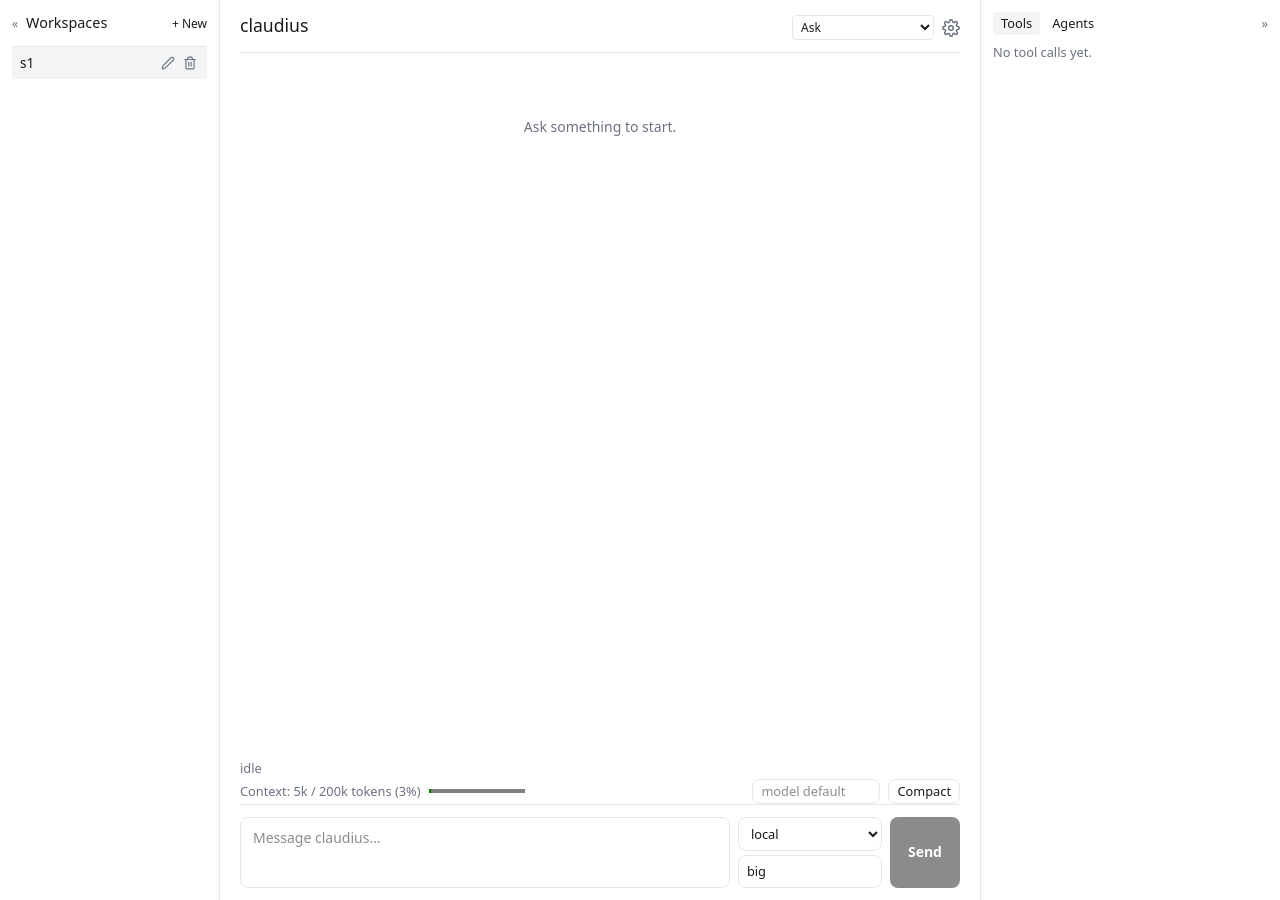
App › answering no sends nothing and keeps the text
The image size is (1280, 900).
Replace the text in the field named "Model" with "small". click: {"x": 810, "y": 871}
box: x1=738 y1=855 x2=882 y2=888
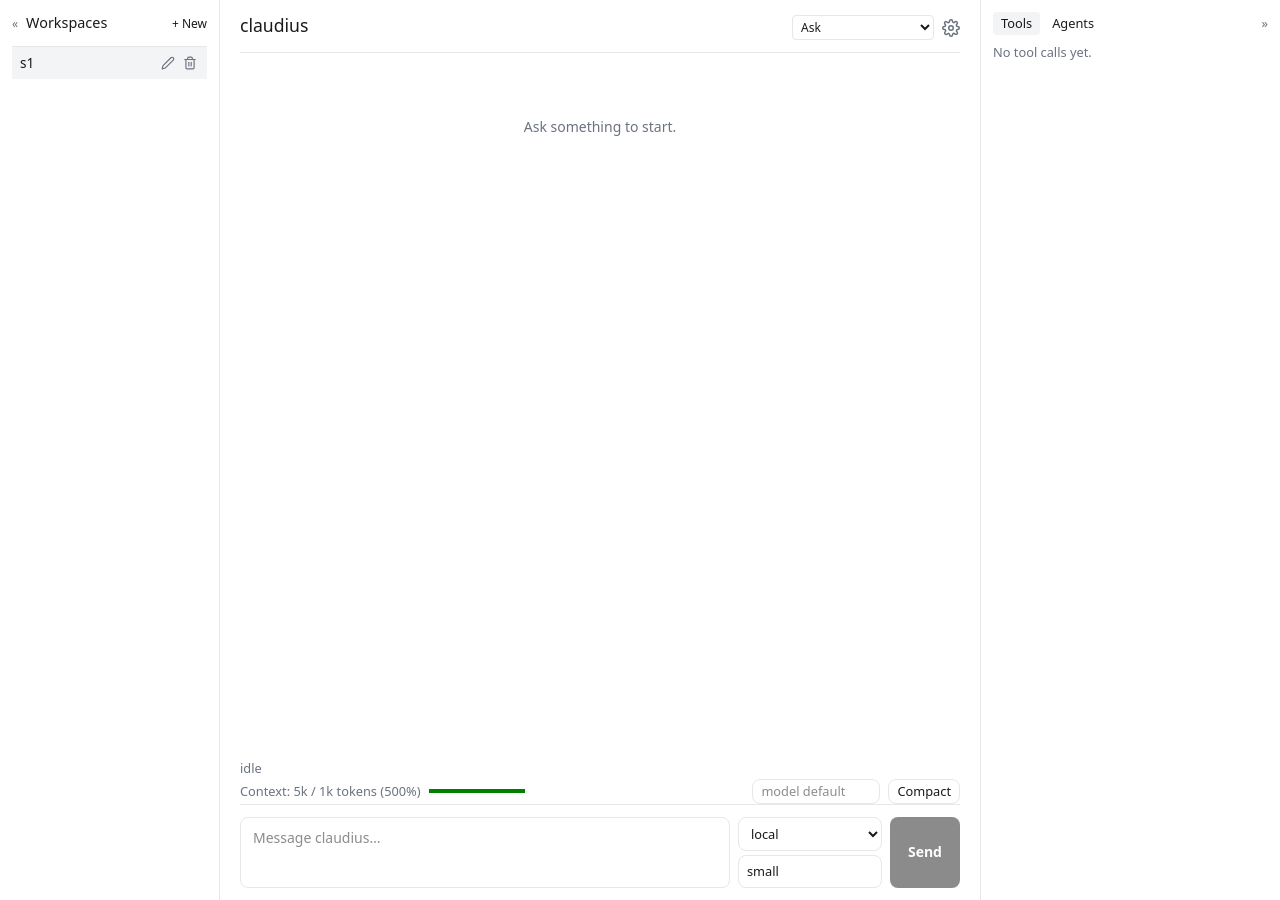
Type "hello" into the text box with placeholder "Message claudius…". click: {"x": 485, "y": 852}
box: x1=240 y1=817 x2=730 y2=888
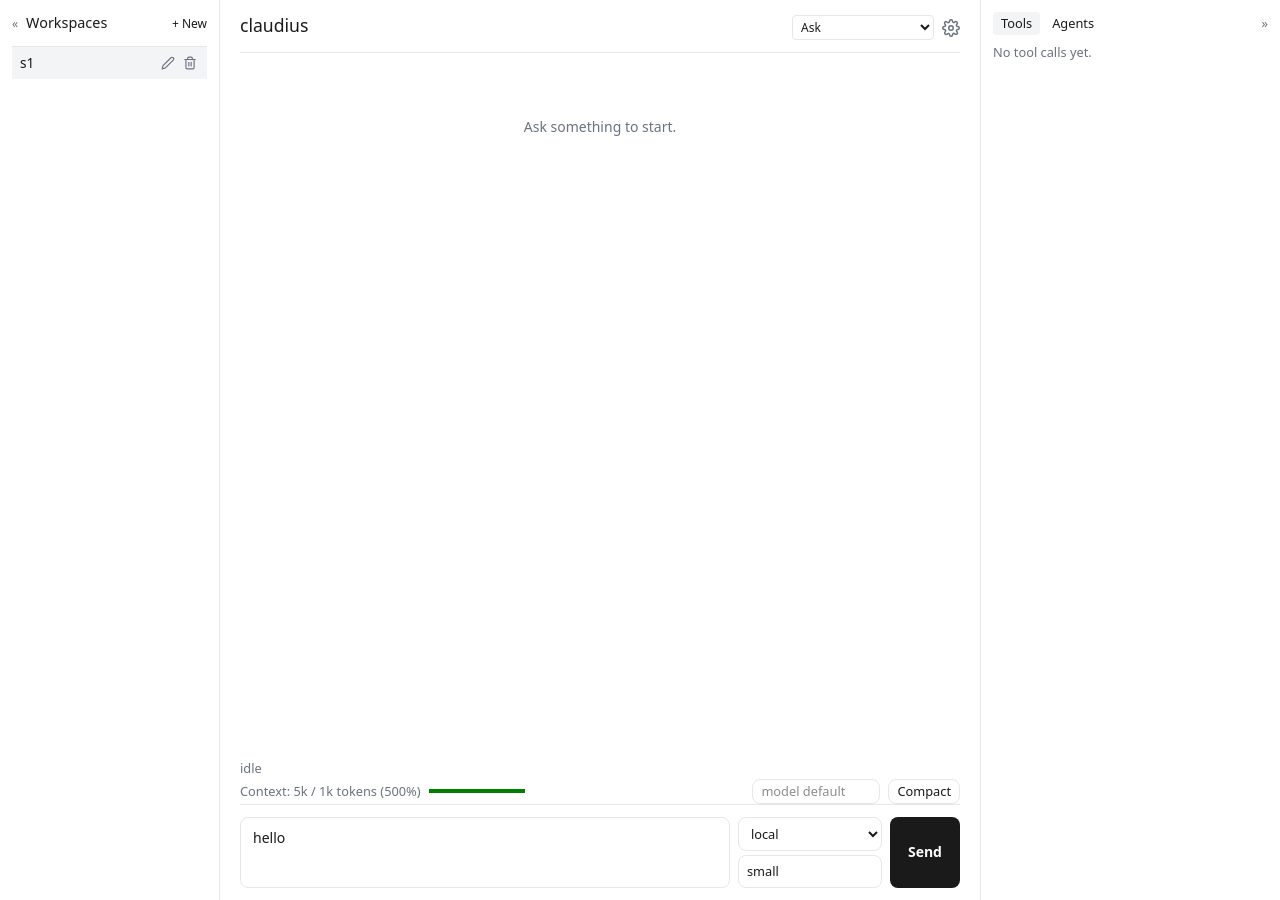
Press Enter in the text box named "Message claudius", box x1=240 y1=817 x2=730 y2=888
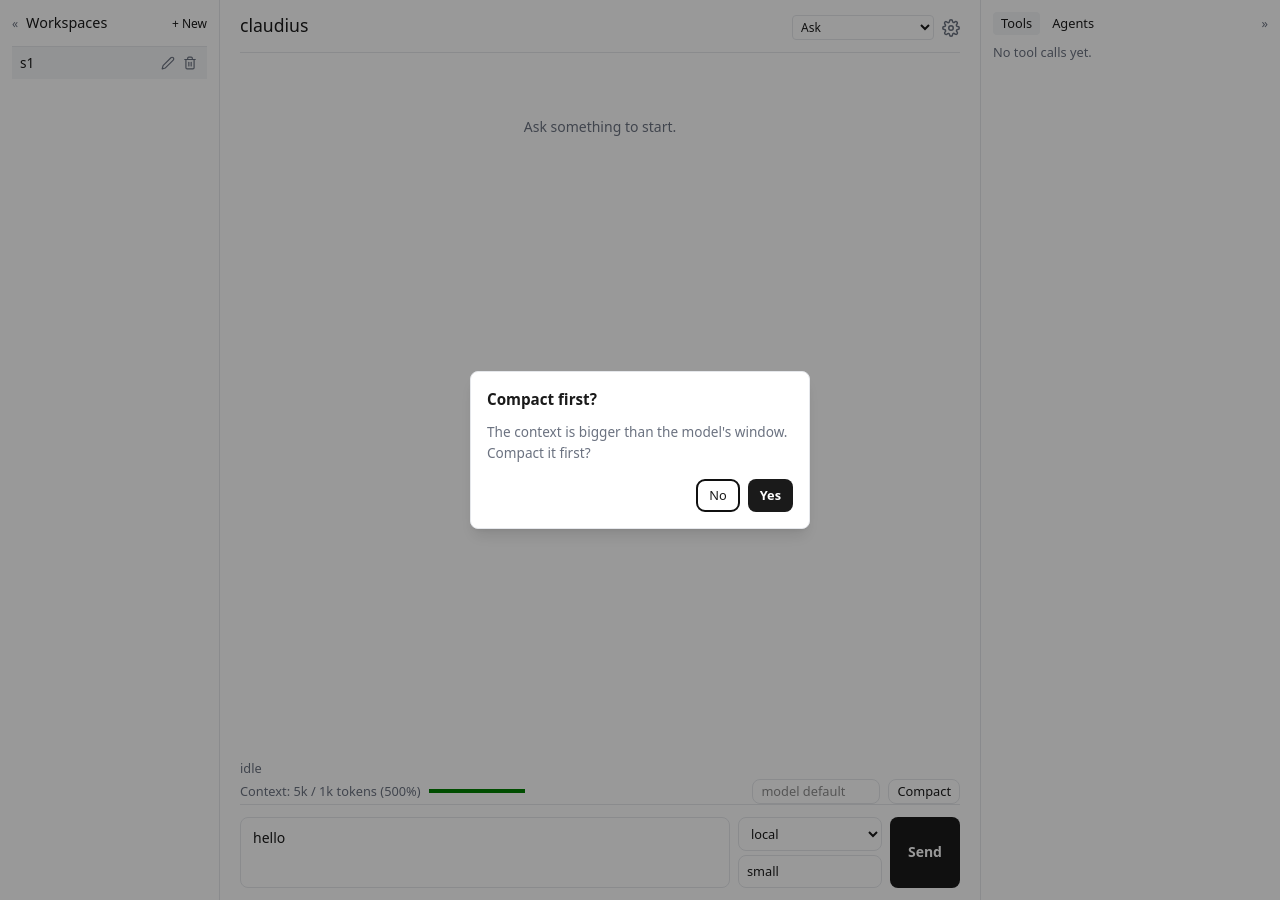
Click the button "No". click: {"x": 718, "y": 496}
box: x1=696 y1=479 x2=740 y2=512
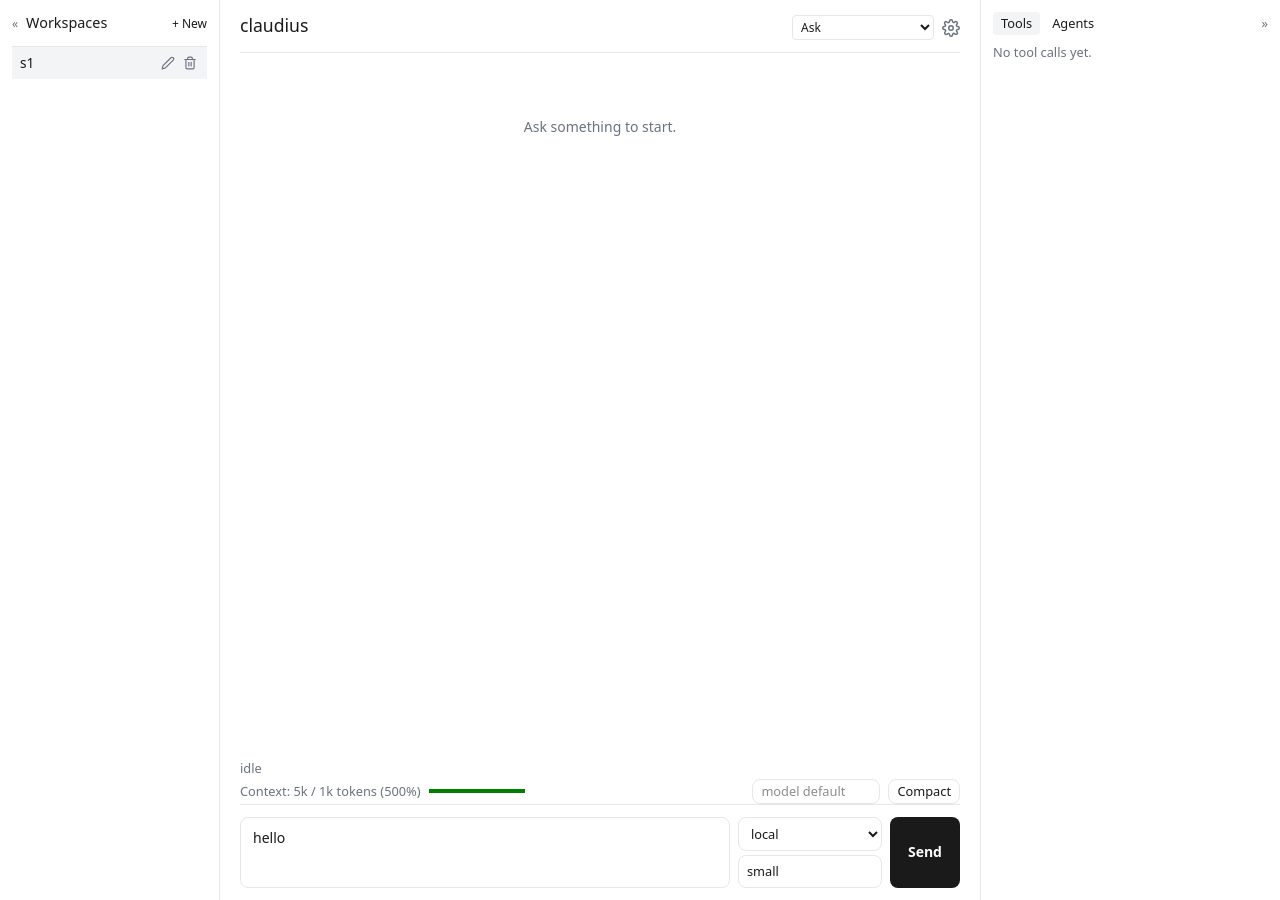
Expected: the dialog with class "dialog" is gone
